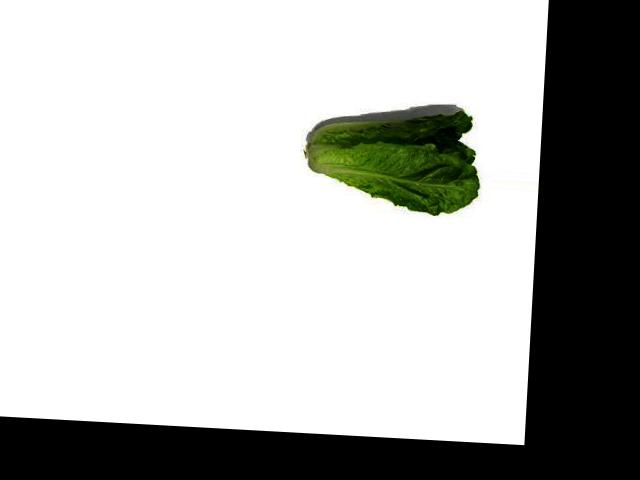lettuce: (301, 103, 474, 216)
